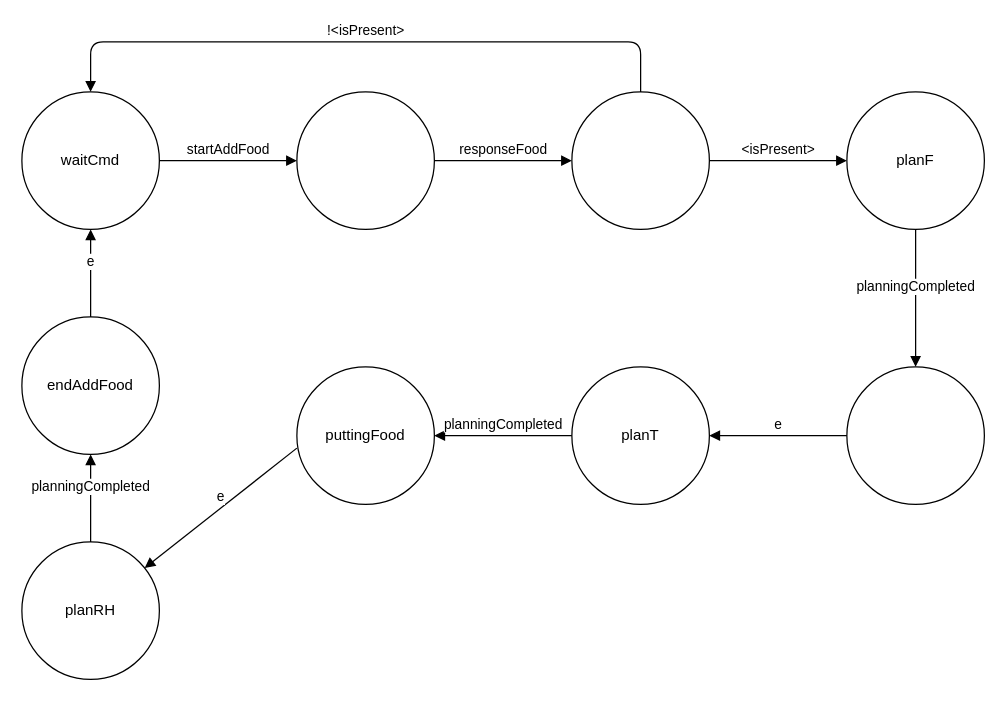
This 1006x701 diagram has some shape labels left out. Here are the shapes that lost their labels. From the top down, the centre of each, then its label:
At point (365, 160): "askingFood".
At point (640, 160): "analyzeResponse".
At point (915, 435): "takingFood".
